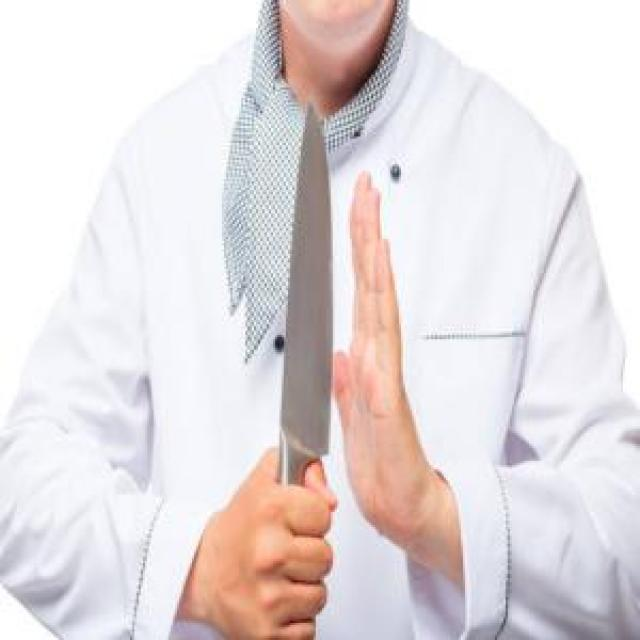knife: (273, 92, 337, 629)
